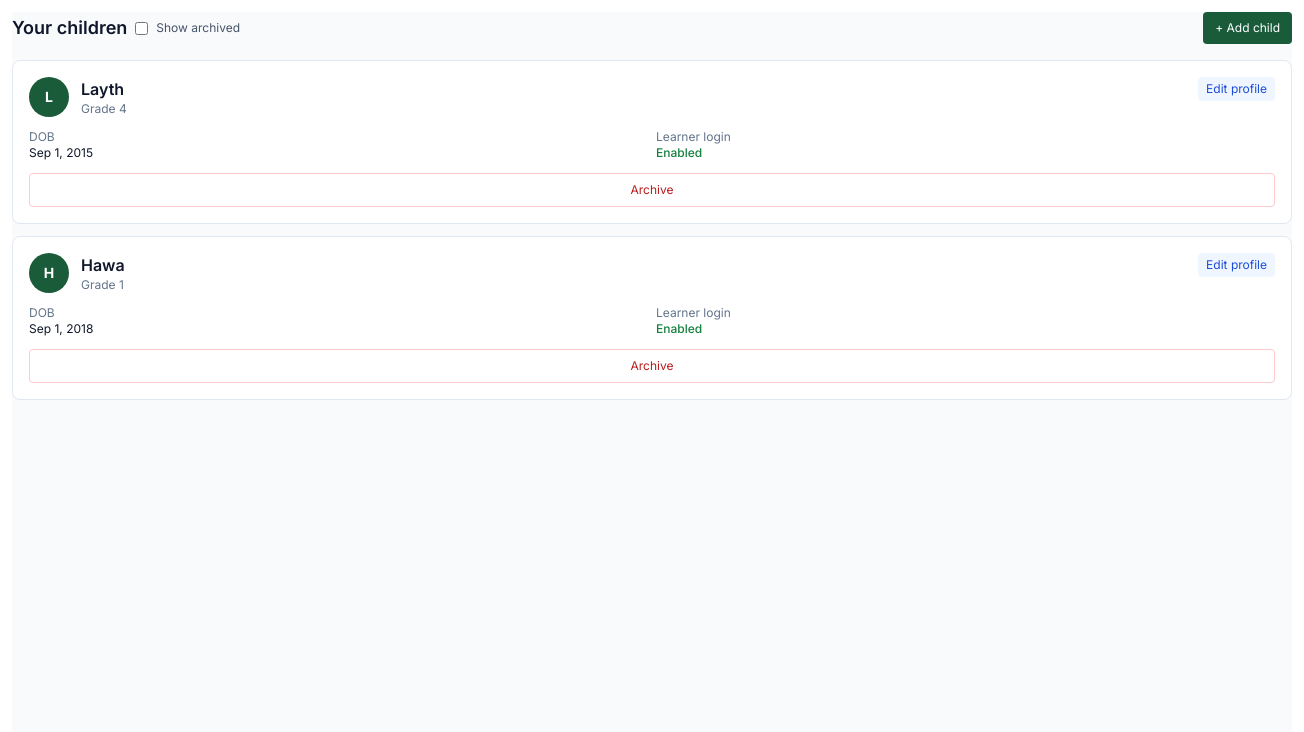
ChildList component › shows add form when Add child button is clicked
Click the button "+ Add child" at (1248, 28), box [1203,12,1292,44]
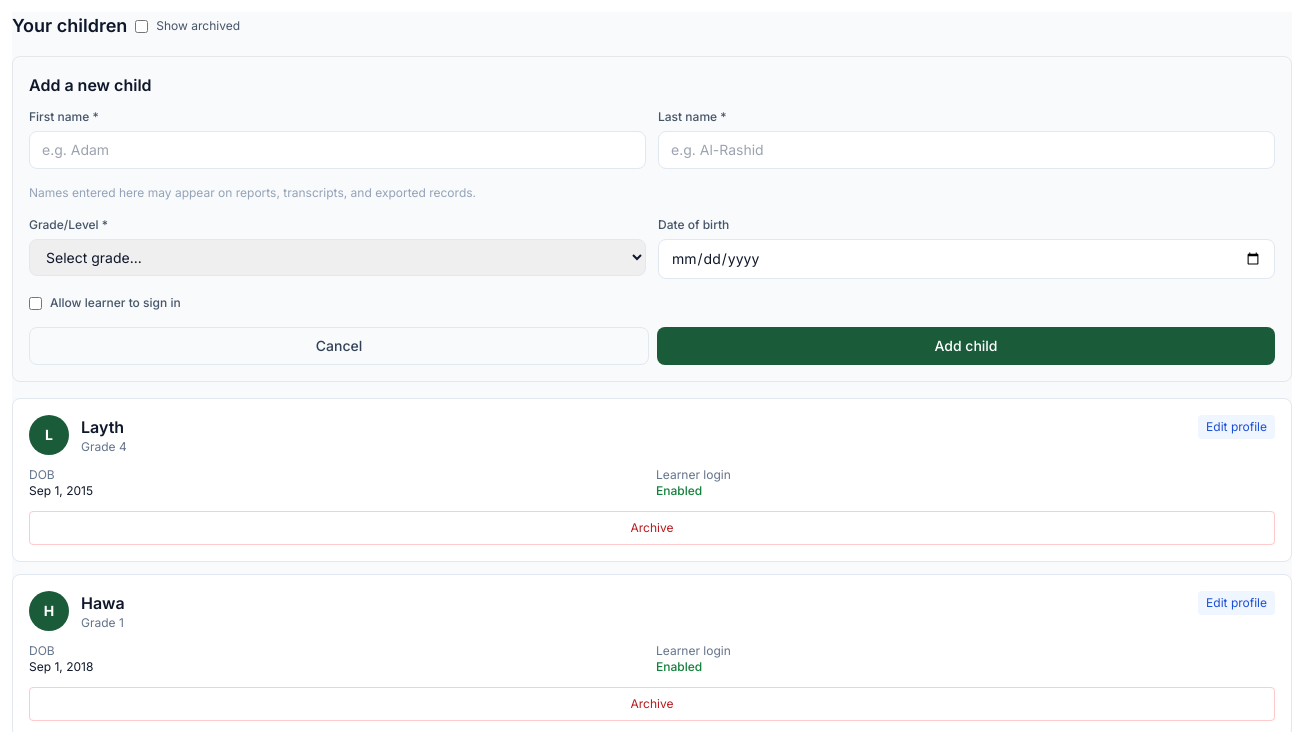
Expected: the heading "Add a new child" is shown, [29,75,152,95]
